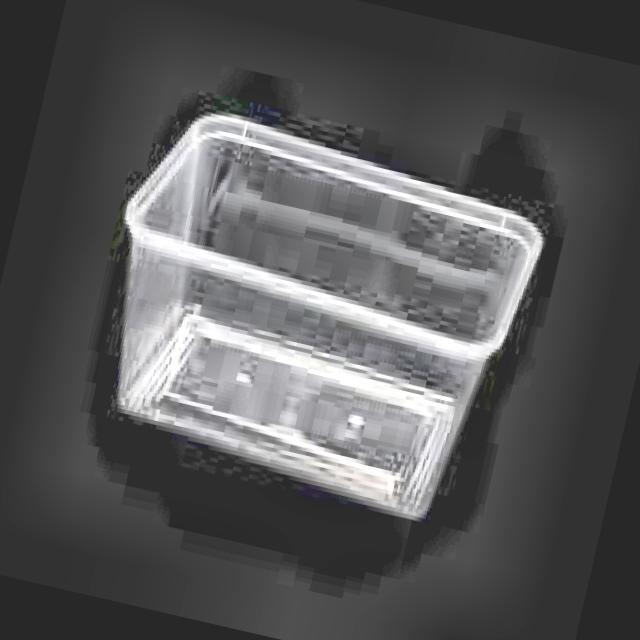plastic container: (122, 113, 540, 519)
